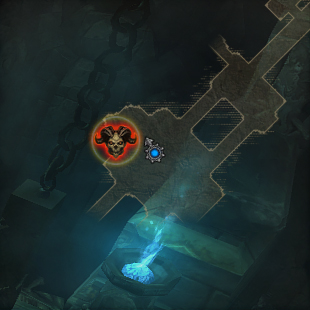Guardian: (93, 124, 139, 161)
